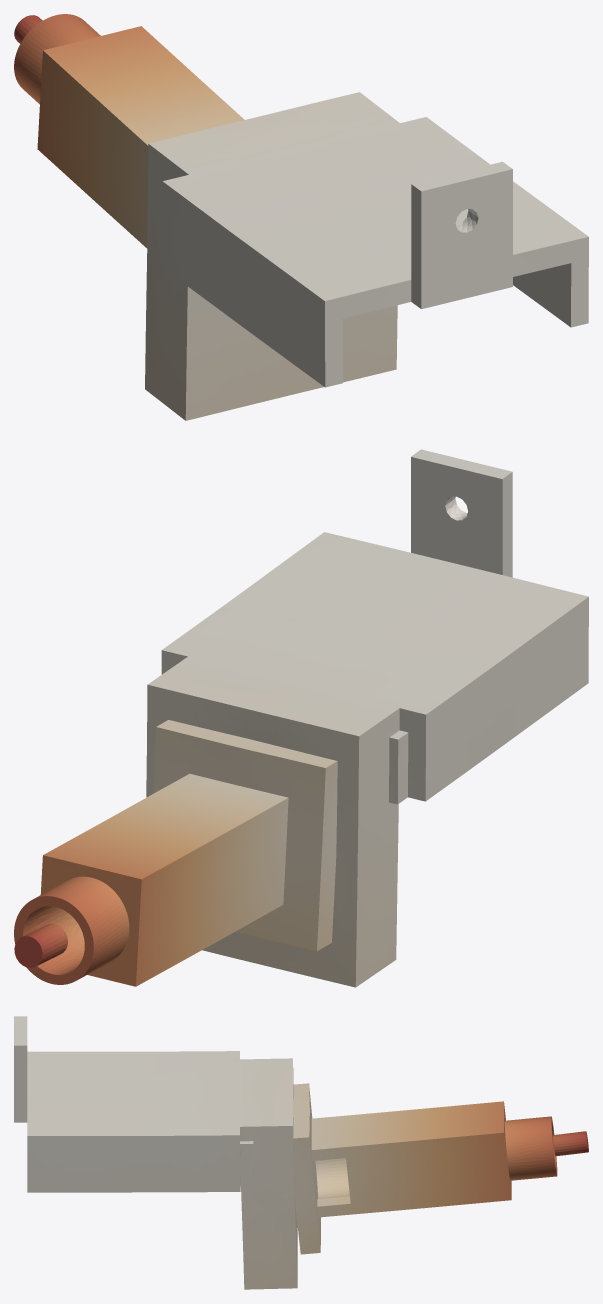
The model's file is z_saddle_Fy_u.glb.
3 renders of one model, top to bottom at view 1: azimuth 30°, elevation 25°; view 2: azimuth 150°, elevation 25°; view 3: azimuth 270°, elevation 25°, orthographic. The views are drawn at different scales.
Visible parts, largest first — view 1: geometry_0; view 2: geometry_0; view 3: geometry_0.
Boxes of the visible parts, box(x1,y1,x2,y2) form: geometry_0: box(14, 14, 588, 420); geometry_0: box(14, 449, 588, 987); geometry_0: box(14, 1016, 588, 1289).
Size of the model in its own units: 150 by 187 by 432.
